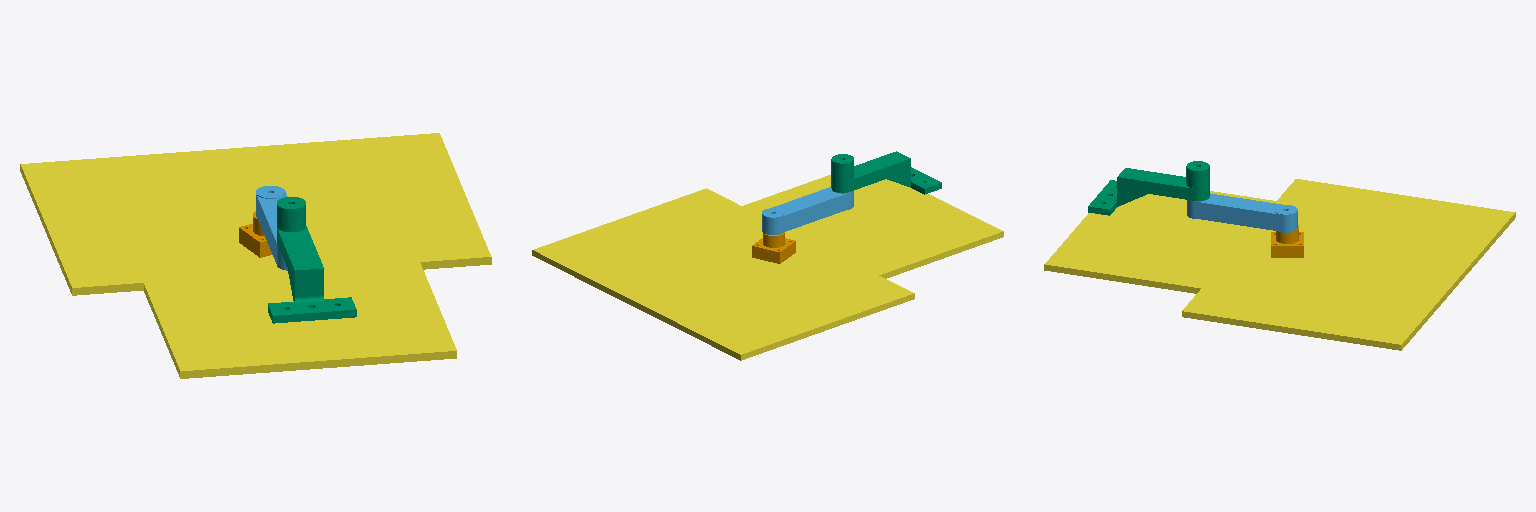
robot.urdf — scara_exosceleton:
<?xml version='1.0' encoding='utf-8'?>
<robot name="scara_exosceleton">
    <link name="Component2_1">
        <inertial>
            <origin xyz="0.0038520404792155988 0.015207912974070528 -0.11020241623627487" rpy="0.0 0.0 0.0" />
            <mass value="0.4749360038407637" />
            <inertia ixx="0.00013461418213471196" iyy="0.0001743402411944456" izz="0.0001346141821265198" ixy="-2.858383976445694e-17" iyz="-1.0635810166878671e-17" ixz="3.4350167567136214e-15" />
        </inertial>
        <visual name="Component2_1_visual">
            <origin xyz="0.035240158712696534 -6.530121020425022e-05 -0.007751268748087228" rpy="-5.538162493580004e-18 0.3490658503988662 4.9829819752040534e-17" />
            <geometry>
                <mesh filename="package://scara_description/meshes/Component2_1.stl" scale="0.001 0.001 0.001" />
            </geometry>
        </visual>
        <collision name="Component2_1_collision">
            <origin xyz="0.035240158712696534 -6.530121020425022e-05 -0.007751268748087228" rpy="-5.538162493580004e-18 0.3490658503988662 4.9829819752040534e-17" />
            <geometry>
                <mesh filename="package://scara_description/meshes/Component2_1.stl" scale="0.001 0.001 0.001" />
            </geometry>
        </collision>
    </link>
    <link name="Component3_1">
        <inertial>
            <origin xyz="-4.984960860349164e-09 -0.06788794579330135 0.014999998789795757" rpy="0.0 -1.176016472440566e-49 0.0" />
            <mass value="1.2570982900186223" />
            <inertia ixx="0.002956734470232038" iyy="0.0002108800107612752" izz="0.00300005062411076" ixy="1.461742101619162e-16" iyz="4.324523811115509e-19" ixz="3.526009764430351e-17" />
        </inertial>
        <visual name="Component3_1_visual">
            <origin xyz="-0.14592045541997253 -0.06767105622617801 -0.04000000121020419" rpy="1.5707963267948966 -2.3825805453532116e-17 -0.17453292519943261" />
            <geometry>
                <mesh filename="package://scara_description/meshes/Component3_1.stl" scale="0.001 0.001 0.001" />
            </geometry>
        </visual>
        <collision name="Component3_1_collision">
            <origin xyz="-0.14592045541997253 -0.06767105622617801 -0.04000000121020419" rpy="1.5707963267948966 -2.3825805453532116e-17 -0.17453292519943261" />
            <geometry>
                <mesh filename="package://scara_description/meshes/Component3_1.stl" scale="0.001 0.001 0.001" />
            </geometry>
        </collision>
    </link>
    <link name="Component5_1">
        <inertial>
            <origin xyz="-3.4699874386368015e-09 0.06970268225259416 -0.004413286291158567" rpy="0.0 -0.0 0.0" />
            <mass value="1.4249126130836682" />
            <inertia ixx="0.004534437436044557" iyy="0.0008822141195758363" izz="0.004321727295092363" ixy="1.3698352348268106e-15" iyz="-0.0011782771262771451" ixz="5.000927498611363e-16" />
        </inertial>
        <visual name="Component5_1_visual">
            <origin xyz="0.039999996530015465 -0.030000001514884196 0.12000000121020428" rpy="-1.5707963267948966 4.958199280211278e-17 6.800116025829081e-16" />
            <geometry>
                <mesh filename="package://scara_description/meshes/Component5_1.stl" scale="0.001 0.001 0.001" />
            </geometry>
        </visual>
        <collision name="Component5_1_collision">
            <origin xyz="0.039999996530015465 -0.030000001514884196 0.12000000121020428" rpy="-1.5707963267948966 4.958199280211278e-17 6.800116025829081e-16" />
            <geometry>
                <mesh filename="package://scara_description/meshes/Component5_1.stl" scale="0.001 0.001 0.001" />
            </geometry>
        </collision>
    </link>
    <link name="Component7_1">
        <inertial>
            <origin xyz="-0.009878740928297347 -0.027141607487580738 0.005000001210204253" rpy="0.0 -1.2037062152420224e-34 0.0" />
            <mass value="20.213749999999997" />
            <inertia ixx="0.5439222720796103" iyy="0.37147210271812503" izz="0.9150574789644013" ixy="-0.07235143675384113" iyz="2.664271617459958e-16" ixz="-7.433249944198939e-16" />
        </inertial>
        <visual name="Component7_1_visual">
            <origin xyz="0.017101003387441107 0.04698463080256978 -0.03999999878979574" rpy="-1.5707963267948966 4.983902369313323e-16 -0.3490658503988661" />
            <geometry>
                <mesh filename="package://scara_description/meshes/Component7_1.stl" scale="0.001 0.001 0.001" />
            </geometry>
        </visual>
        <collision name="Component7_1_collision">
            <origin xyz="0.017101003387441107 0.04698463080256978 -0.03999999878979574" rpy="-1.5707963267948966 4.983902369313323e-16 -0.3490658503988661" />
            <geometry>
                <mesh filename="package://scara_description/meshes/Component7_1.stl" scale="0.001 0.001 0.001" />
            </geometry>
        </collision>
    </link>
    <joint name="Revolute-5" type="continuous">
        <origin xyz="0.003852043221809045 0.04000000121020428 -0.11020241362594074" rpy="-1.5707963267948966 -0.34906585039886606 -5.1689516606746804e-17" />
        <parent link="Component2_1" />
        <child link="Component3_1" />
        <axis xyz="2.311115933264683e-33 -4.404491703623405e-19 1.0000000000000002" />
    </joint>
    <joint name="Revolute-6" type="continuous">
        <origin xyz="-7.632783294297952e-18 -0.14 0.029999999999999995" rpy="3.141592653589793 -2.2866660927590165e-33 -5.551115123125783e-17" />
        <parent link="Component3_1" />
        <child link="Component5_1" />
        <axis xyz="-4.622231866529366e-33 -8.791098264615304e-19 1.0" />
    </joint>
    <joint name="Rigid-8" type="fixed">
        <origin xyz="-0.00469846036133267 1.2102042515858836e-09 -0.08671009810629304" rpy="1.5707963267948966 -0.698131700797731 -5.635897867313138e-17" />
        <parent link="Component2_1" />
        <child link="Component7_1" />
    </joint>

    <link name='base_link'/>

    <joint name='base_link_to_Component2_1' type='fixed'>
        <parent link='base_link'/>
        <child link='Component2_1'/>
        <origin xyz='0 0 0' rpy='1.5707963 0 0'/>
    </joint>
</robot>

<!-- <ros2_control name="GazeboSystem" type="system">
  <hardware>
    <plugin>gz_ros2_control/GazeboSimSystem</plugin>
  </hardware>
  <joint name="Revolute-5">
    <command_interface name="position"/>
    <state_interface name="position"/>
    <state_interface name="velocity"/>
  </joint>
  <joint name="Revolute-6">
    <command_interface name="position"/>
    <state_interface name="position"/>
    <state_interface name="velocity"/>
  </joint>
  <joint name="Rigid-8">
    <command_interface name="position"/>
    <state_interface name="position"/>
    <state_interface name="velocity"/>
  </joint>
</ros2_control> -->

--- What the picture shows (computed from the rendered views, not written in the file) ---
Views: 3 orthographic renders of the robot side by side, from view 1: azimuth 30°, elevation 25°; view 2: azimuth 150°, elevation 25°; view 3: azimuth 270°, elevation 25°.
Model scara_exosceleton with 5 links and 4 joints (2 continuous, 2 fixed), rooted at base_link, posed all joints at 0.
Links seen in each view (by area): view 1: Component7_1, Component5_1, Component3_1, Component2_1; view 2: Component7_1, Component5_1, Component3_1, Component2_1; view 3: Component7_1, Component5_1, Component3_1, Component2_1.
Link boxes in pixels (box(x1,y1,x2,y2)): Component7_1: box(20, 133, 491, 378); Component5_1: box(268, 197, 356, 323); Component3_1: box(256, 186, 287, 270); Component2_1: box(239, 211, 271, 257); Component7_1: box(532, 175, 1003, 360); Component5_1: box(831, 151, 941, 194); Component3_1: box(762, 187, 853, 234); Component2_1: box(752, 232, 795, 263); Component7_1: box(1044, 179, 1515, 350); Component5_1: box(1088, 161, 1209, 215); Component3_1: box(1187, 193, 1297, 232); Component2_1: box(1271, 225, 1303, 257).
Bounding box of the posed robot: 0.5952 × 0.7058 × 0.13 m (x, y, z).
4 mesh visuals loaded from 4 distinct referenced files (4 binary STL).
